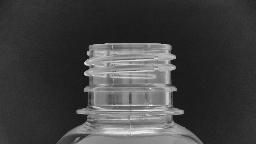No Cap: (73, 36, 187, 122)
